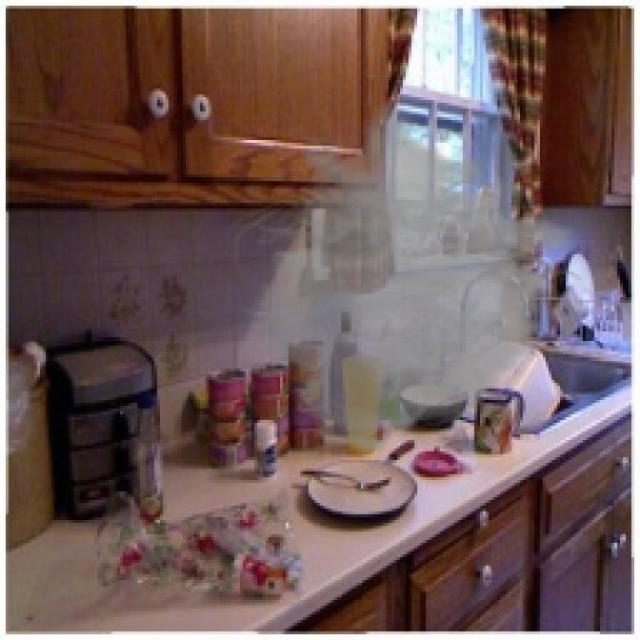Smoke: (214, 100, 589, 457)
